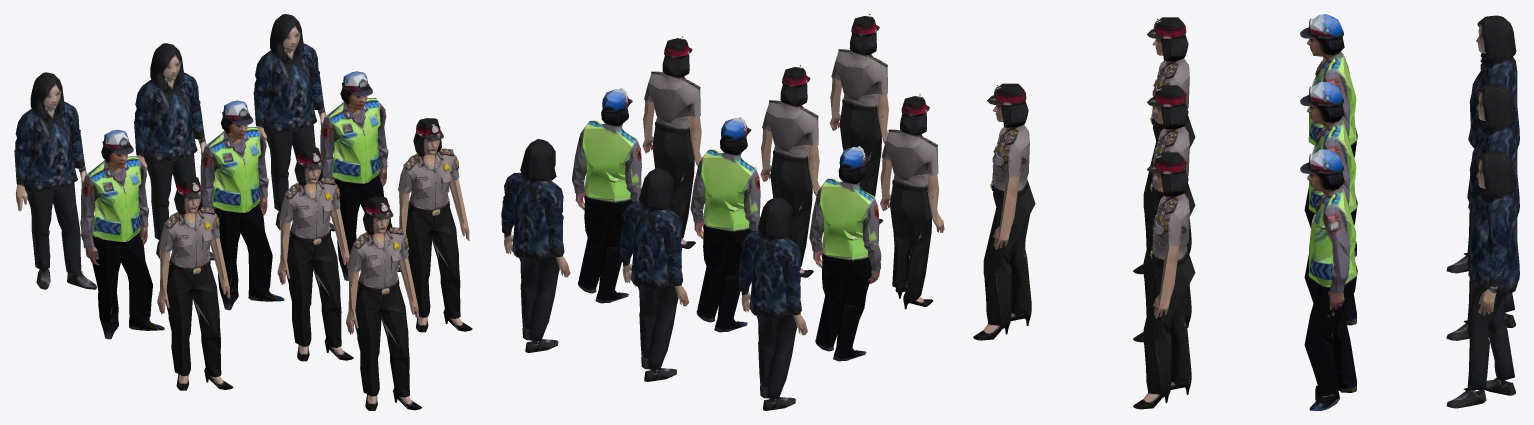
The model's file is parade_ina_idle_lod2.glb.
3 renders of one model, left to right at view 1: azimuth 30°, elevation 25°; view 2: azimuth 150°, elevation 25°; view 3: azimuth 270°, elevation 25°, orthographic. The views are drawn at different scales.
Parts seen in each view (by area): view 1: tripo_node_8e05bf5d, tripo_node_3a622430, tripo_node_08f21640-4b2e-4dcf-8c3c-9facbb47a148; view 2: tripo_node_3a622430, tripo_node_8e05bf5d, tripo_node_08f21640-4b2e-4dcf-8c3c-9facbb47a148; view 3: tripo_node_8e05bf5d, tripo_node_08f21640-4b2e-4dcf-8c3c-9facbb47a148, tripo_node_3a622430.
Boxes of the visible parts, x1,y1,x2,y2 form: tripo_node_8e05bf5d: [157, 118, 472, 410]; tripo_node_3a622430: [80, 71, 400, 339]; tripo_node_08f21640-4b2e-4dcf-8c3c-9facbb47a148: [14, 14, 334, 289]; tripo_node_3a622430: [572, 88, 881, 361]; tripo_node_8e05bf5d: [642, 14, 944, 309]; tripo_node_08f21640-4b2e-4dcf-8c3c-9facbb47a148: [501, 139, 807, 410]; tripo_node_8e05bf5d: [973, 17, 1195, 409]; tripo_node_08f21640-4b2e-4dcf-8c3c-9facbb47a148: [1446, 15, 1519, 408]; tripo_node_3a622430: [1300, 14, 1357, 410].
Bounding box in the file's own units: 1.57 × 1 × 2.05.
Materials: 3 (3 with a texture image).
